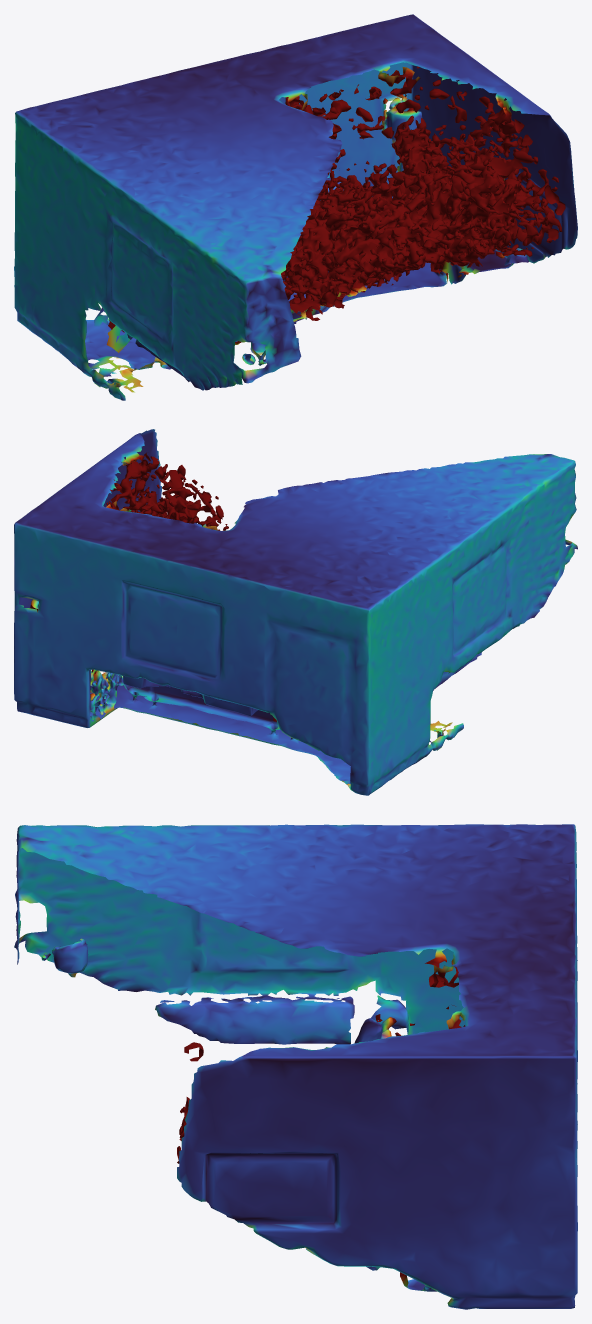
Rendered from rtab_gt_error.glb.
The picture shows the model from 3 angles, top to bottom: view 1: azimuth 30°, elevation 25°; view 2: azimuth 150°, elevation 25°; view 3: azimuth 270°, elevation 25°; orthographic projection. The views are drawn at different scales.
Size of the model in its own units: 4.94 by 2.55 by 4.99.
